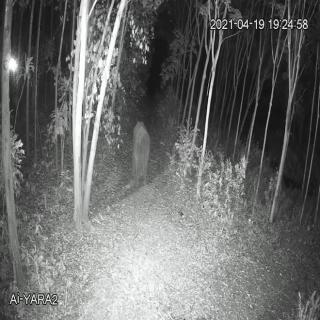Elephant: (128, 114, 152, 192)
